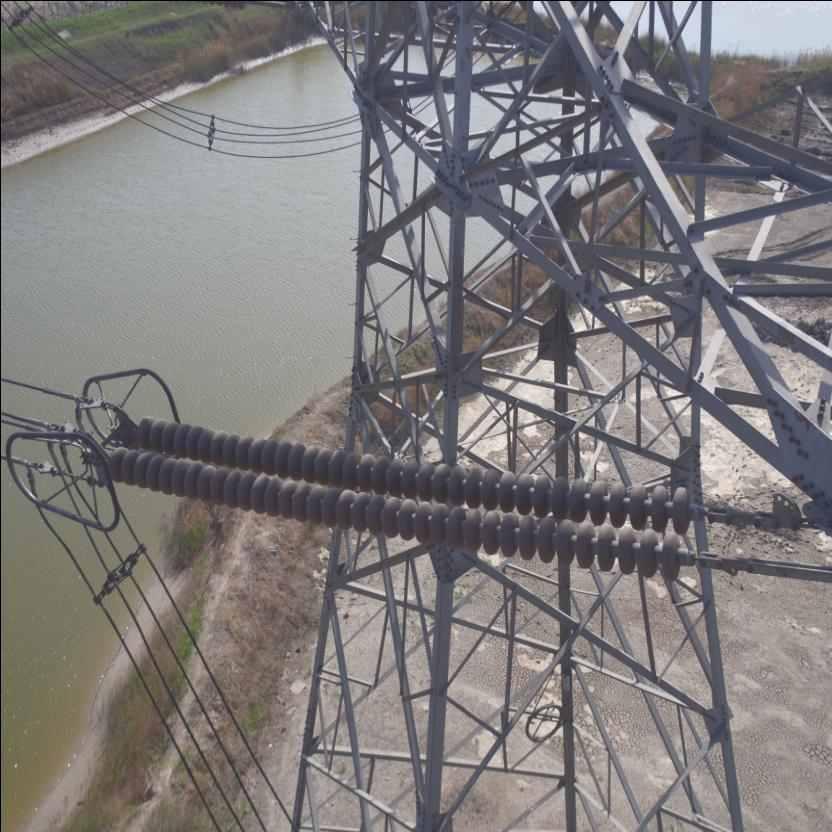insulator: (89, 411, 768, 583)
